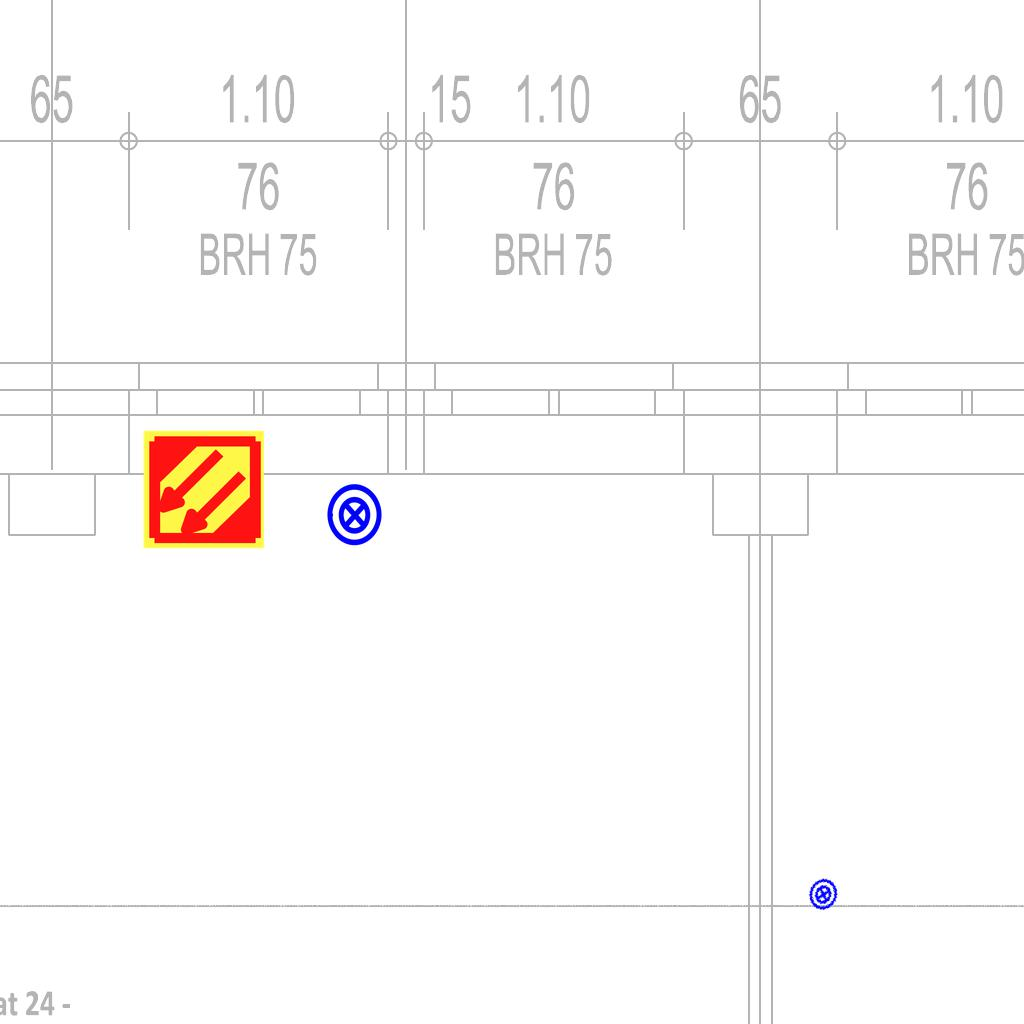ASR_Ansaugrauchmelder: (141, 427, 266, 552)
Taster_beleuchtet: (322, 482, 388, 548), (803, 874, 844, 915)
